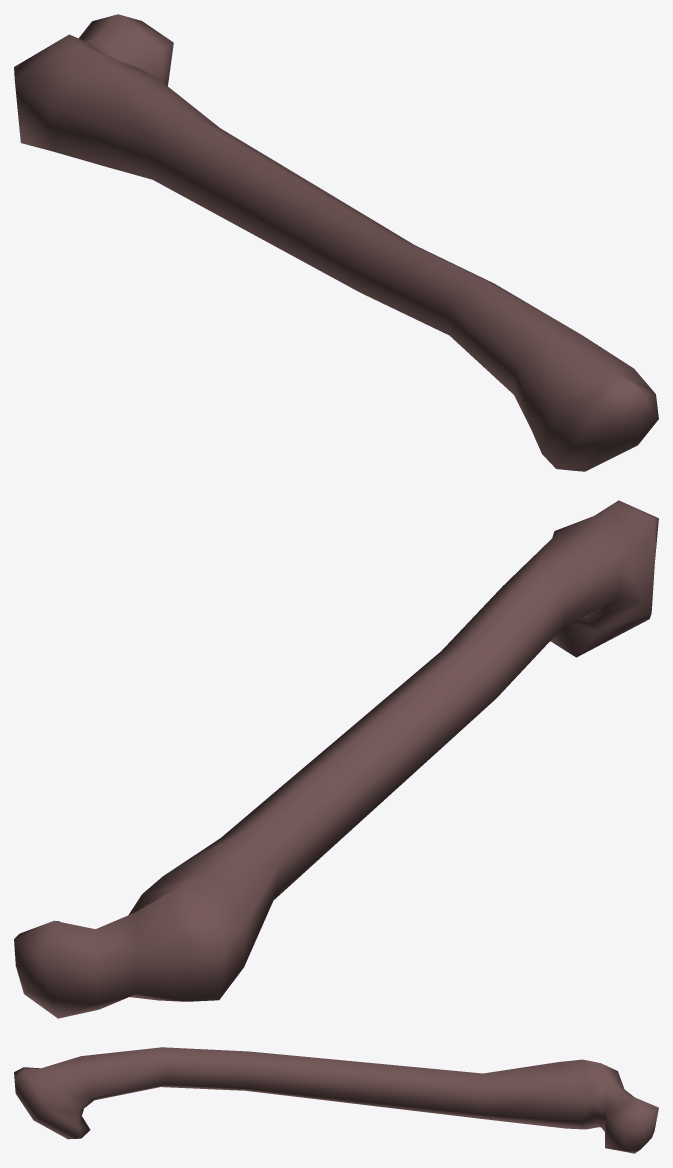
File: SM_BirdSkeletonFemur.FBX
3 views of the same model, one above another, from view 1: azimuth 30°, elevation 25°; view 2: azimuth 150°, elevation 25°; view 3: azimuth 270°, elevation 25° (orthographic). The views are drawn at different scales.
Parts seen in each view (by area): view 1: SM_BirdSkeletonFemur; view 2: SM_BirdSkeletonFemur; view 3: SM_BirdSkeletonFemur.
Part boxes in pixels (x1,y1,x2,y2): SM_BirdSkeletonFemur: (14, 14, 658, 471); SM_BirdSkeletonFemur: (14, 500, 658, 1018); SM_BirdSkeletonFemur: (14, 1047, 658, 1153).
Size of the model in its own units: 12.61 by 10.37 by 67.57.
